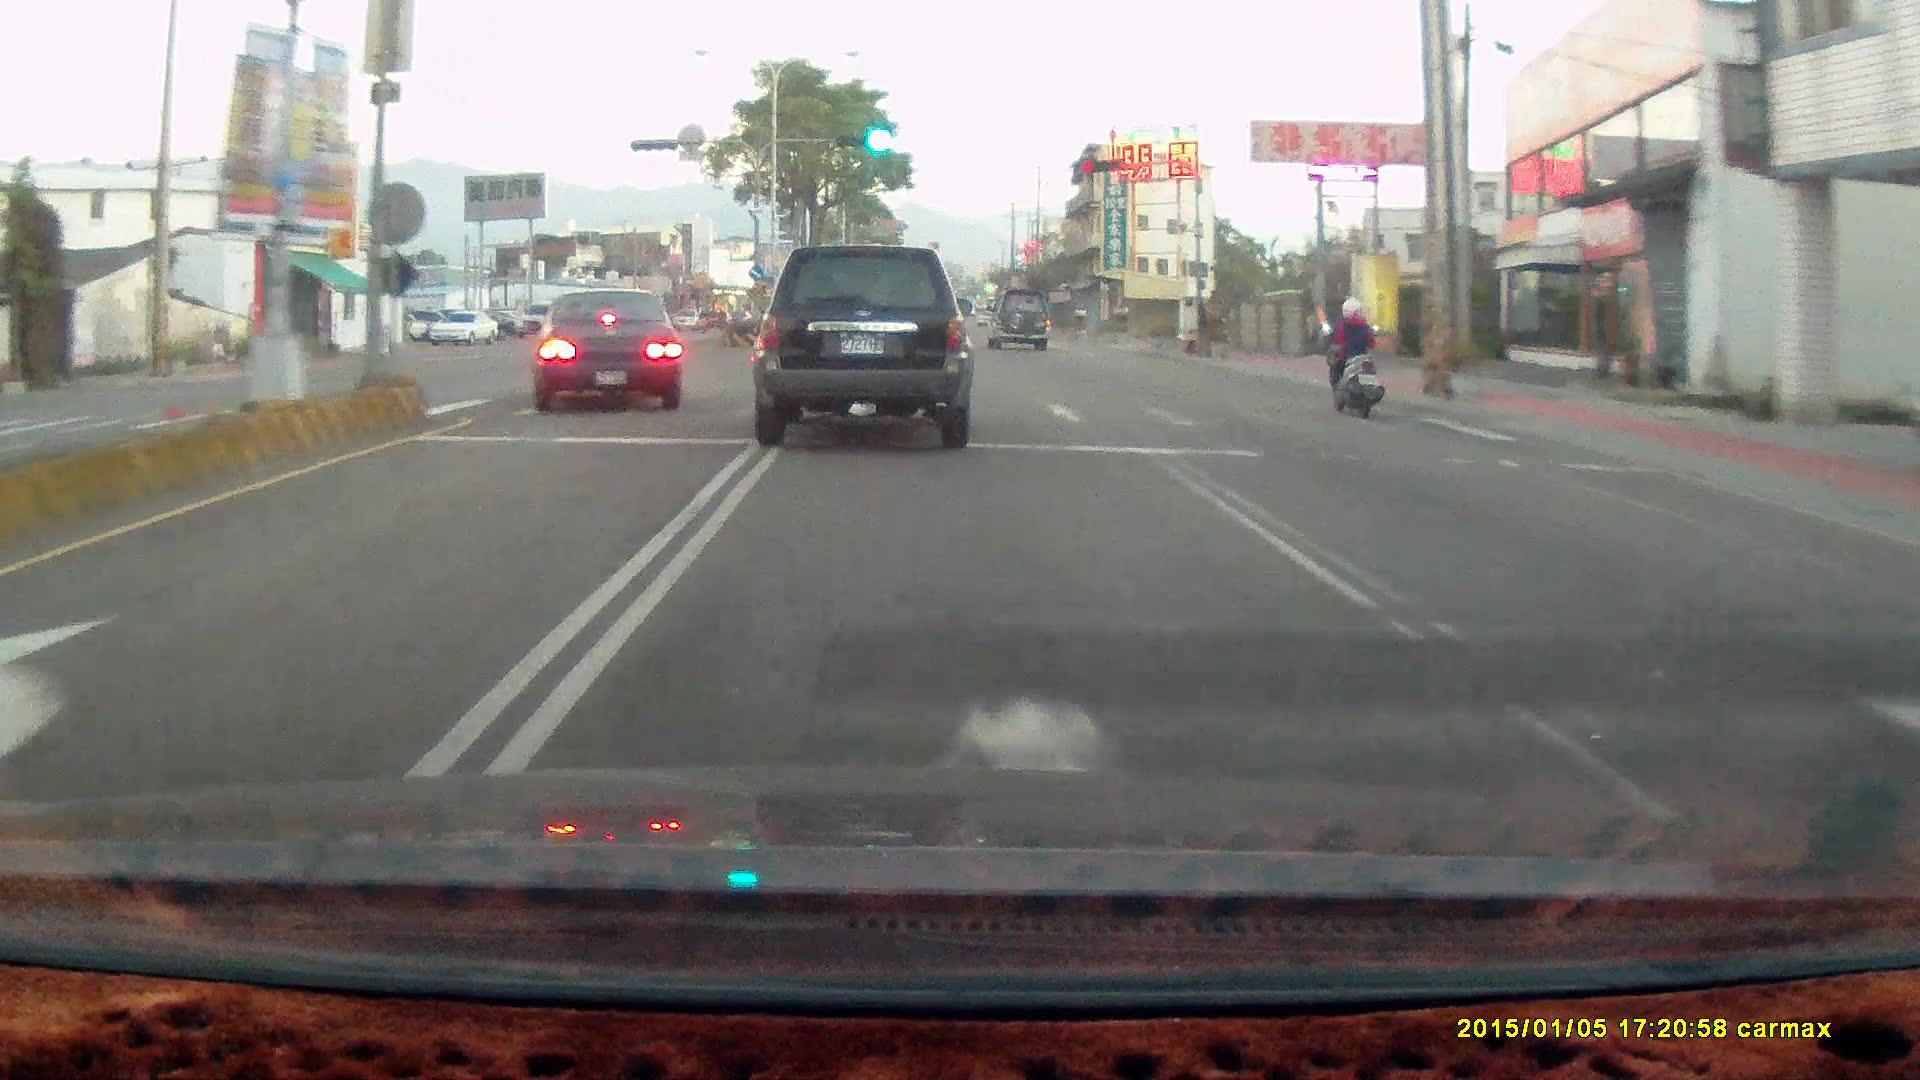rider: (1308, 284, 1398, 431), (1318, 296, 1384, 419)
vehicle: (755, 238, 979, 446), (750, 242, 973, 448), (528, 286, 688, 413), (524, 287, 684, 410), (988, 290, 1054, 355), (984, 283, 1050, 347), (428, 309, 498, 345)
